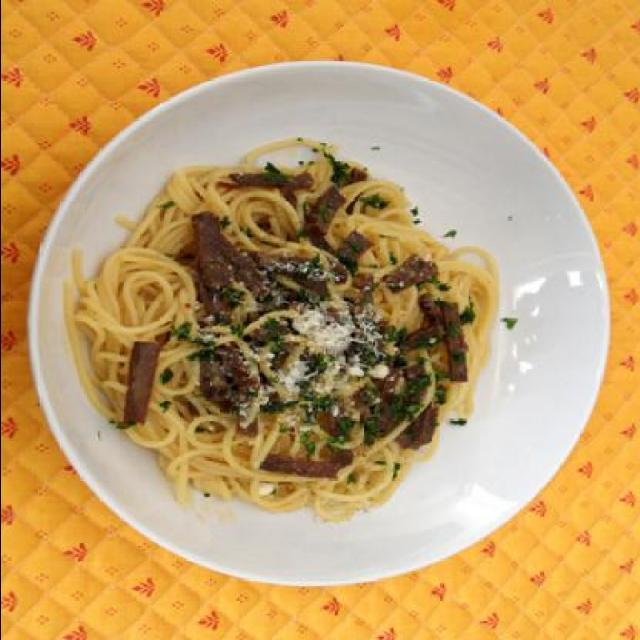Pasta with carbonara sauce: (60, 102, 542, 584)
